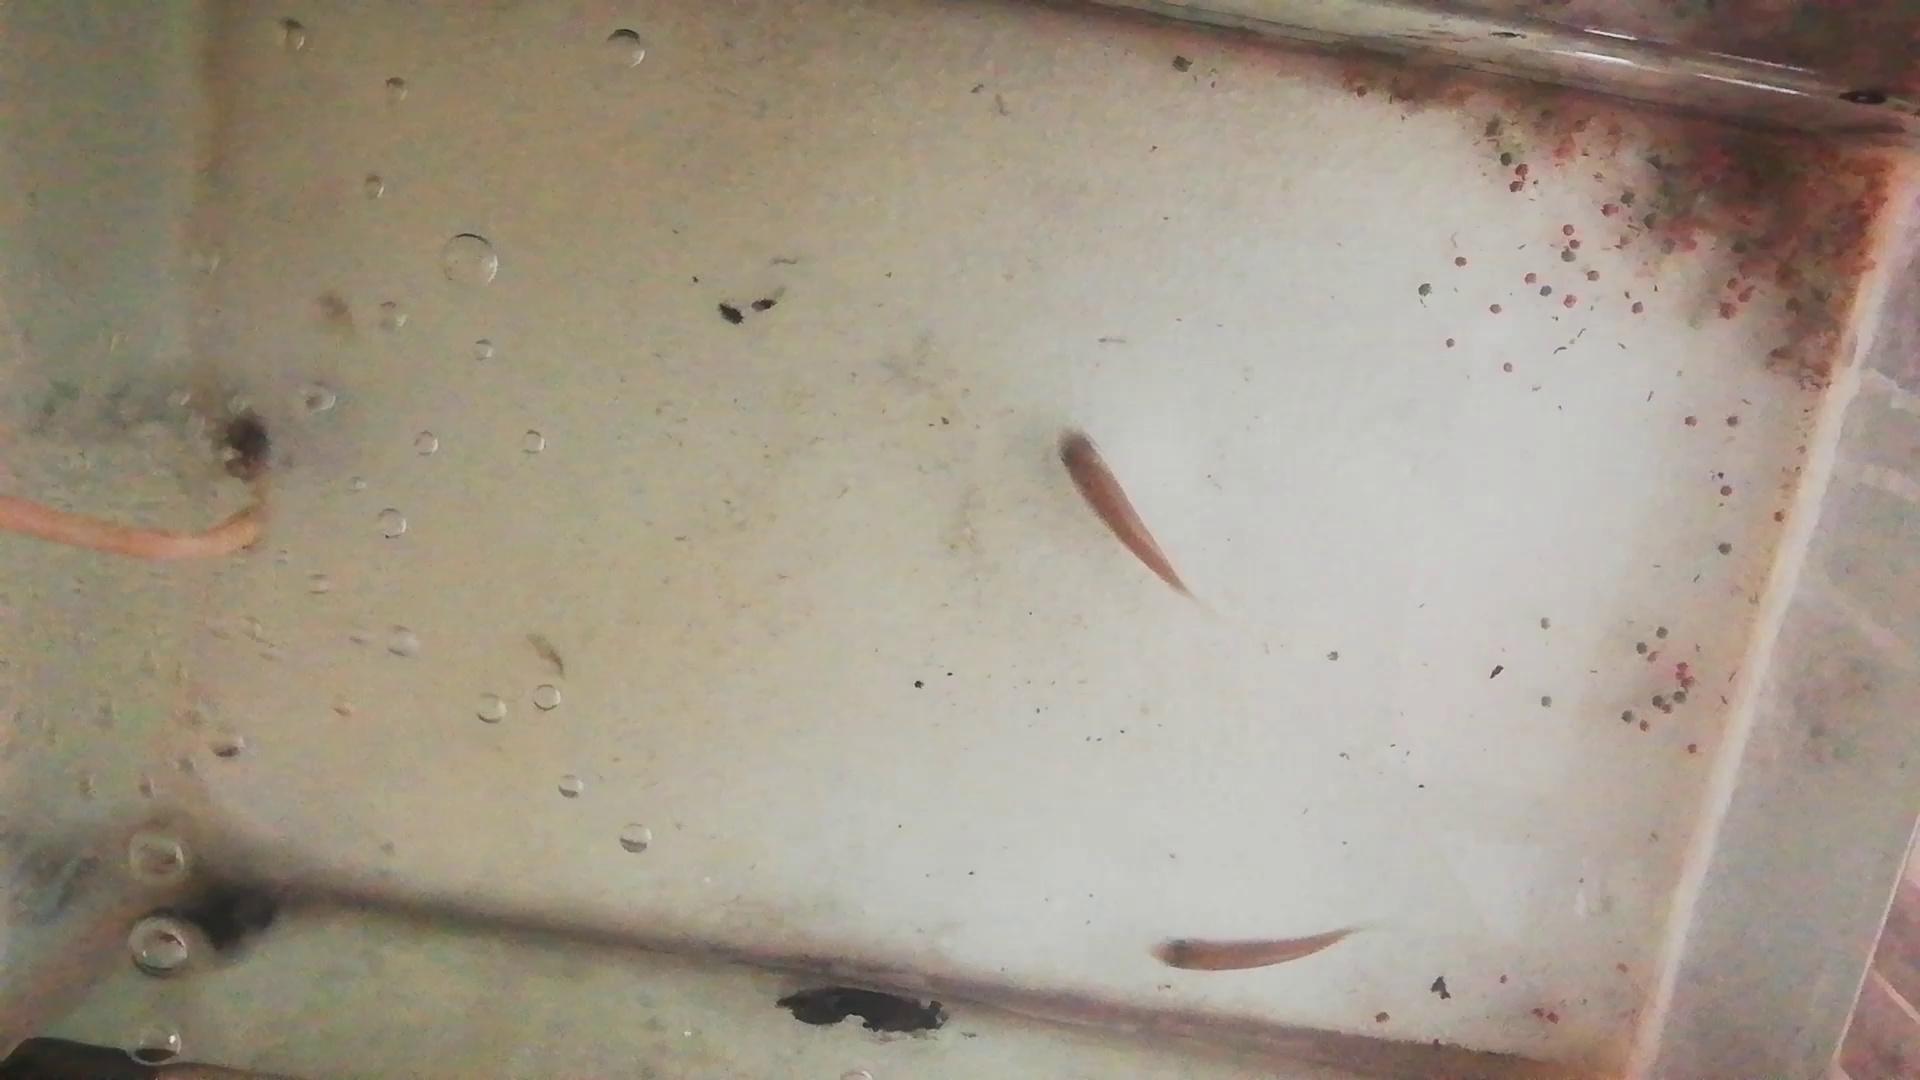fish: (1056, 422, 1182, 597), (1150, 926, 1345, 973)
